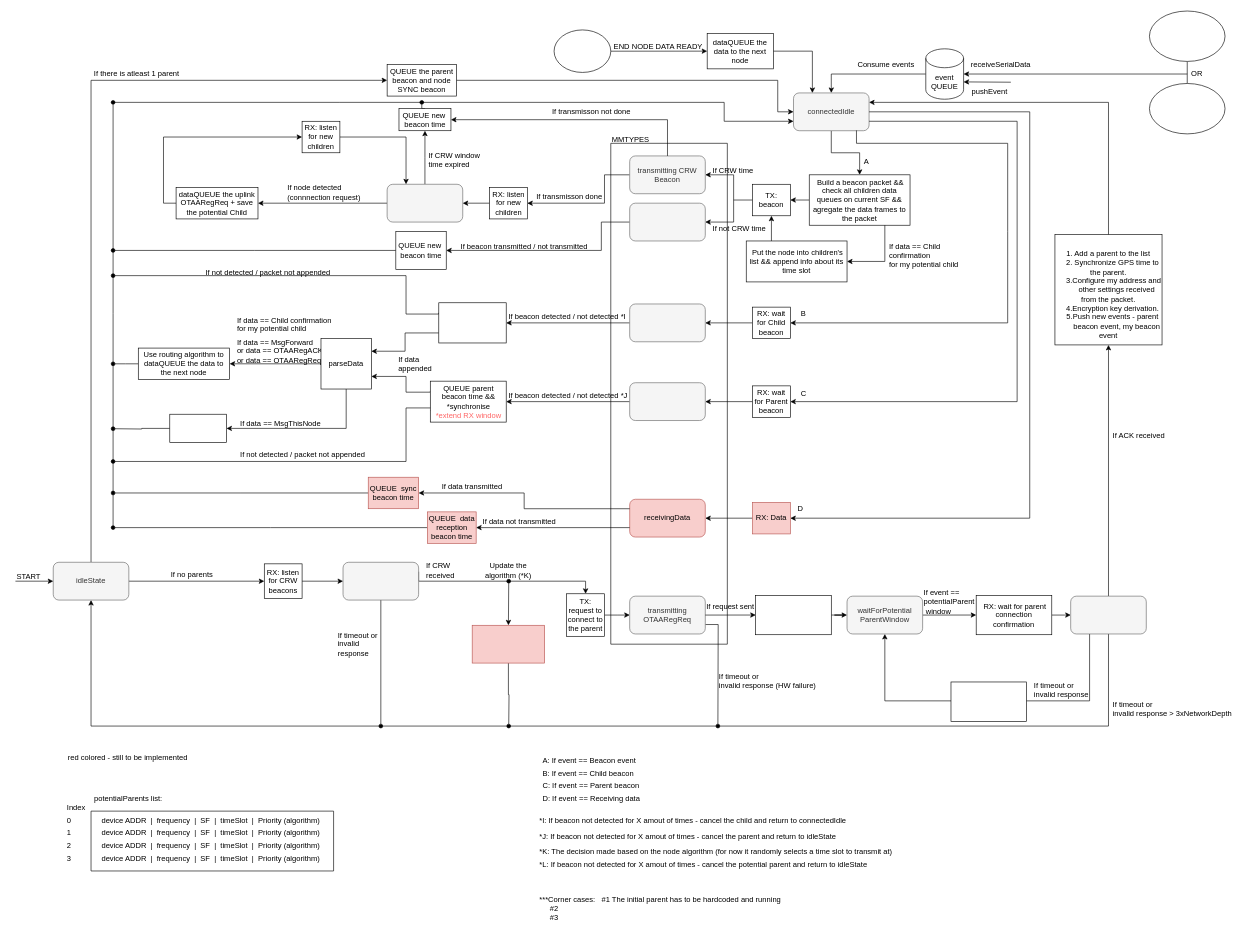
This 1255x939 diagram has some shape labels left out. Each missing label, with the centre of its shape:
"+ QUEUE the (potentialParent) node time slot" goes at pixel 508 644.
"APPLICATION" goes at pixel 582 50.
"LoRa Node (HW)" goes at pixel 1187 108.
"LoRa Simulator (SW)" goes at pixel 1187 35.
"Pass data to the application layer" goes at pixel 197 428.
"QUEUE child beacon time && *confirm the child *extend RX window" goes at pixel 472 322.
"QUEUE the potentialParent node time slot" goes at pixel 988 701.
"receivingNew ChildNodes" goes at pixel 425 203.
"remove the queued events and QUEUE the potentialParent node time slot" goes at pixel 793 615.
"searchParent" goes at pixel 380 581.
"transmitting Beacon" goes at pixel 667 222.
"waitFor ChildBeacon" goes at pixel 667 322.
"waitFor ParentBeacon" goes at pixel 667 401.
"waitForRequest ConnectionAnswer" goes at pixel 1108 615.
